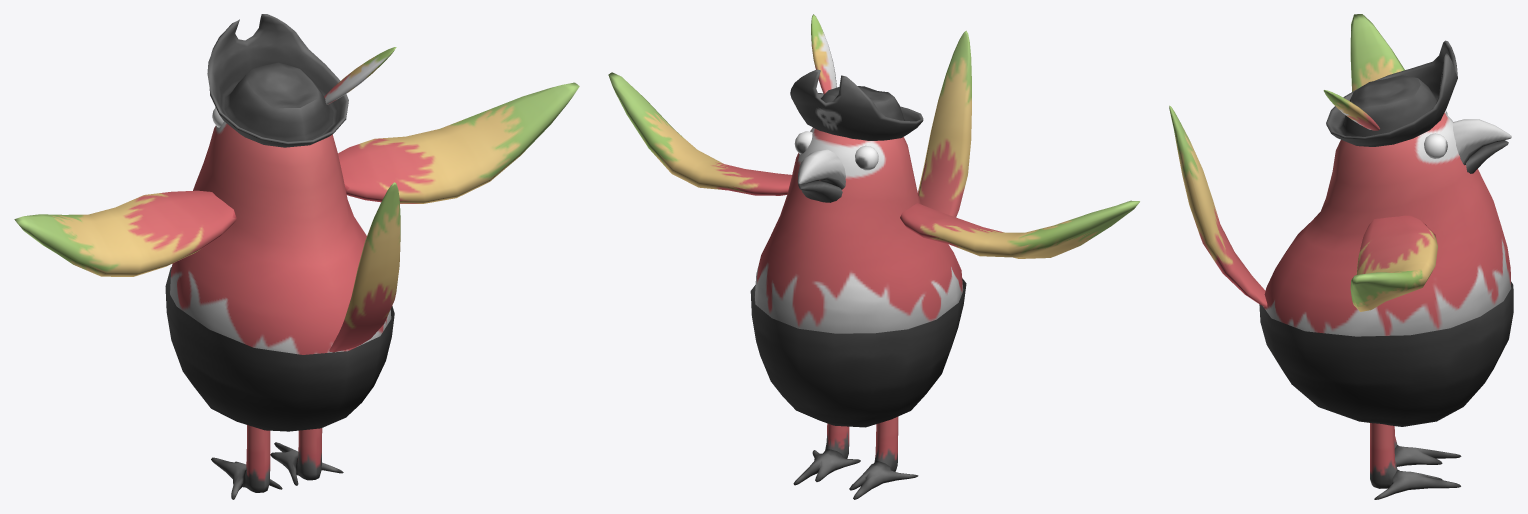
The model's file is oumu_idle_a_06.fbx.
3 renders of one model, left to right at view 1: azimuth 30°, elevation 25°; view 2: azimuth 150°, elevation 25°; view 3: azimuth 270°, elevation 25°, orthographic. The views are drawn at different scales.
Visible parts, largest first — view 1: I_a_06; view 2: I_a_06; view 3: I_a_06.
Boxes of the visible parts, x1,y1,x2,y2 form: I_a_06: [14, 14, 579, 499]; I_a_06: [608, 14, 1139, 499]; I_a_06: [1169, 14, 1513, 499].
Bounding box in the file's own units: 2.79 × 2.1 × 1.54.
1 material, 1 textured.
